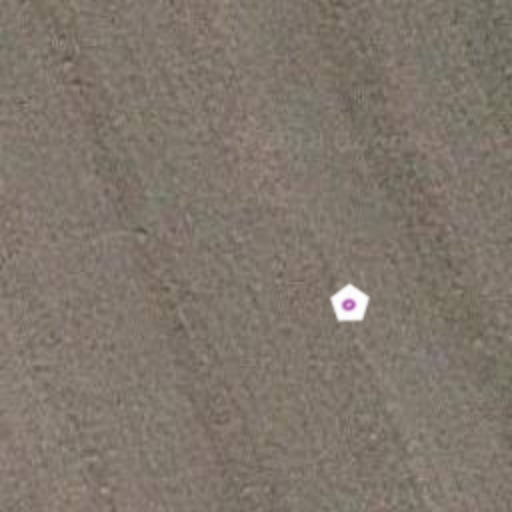pentagon: (320, 274, 380, 334)
